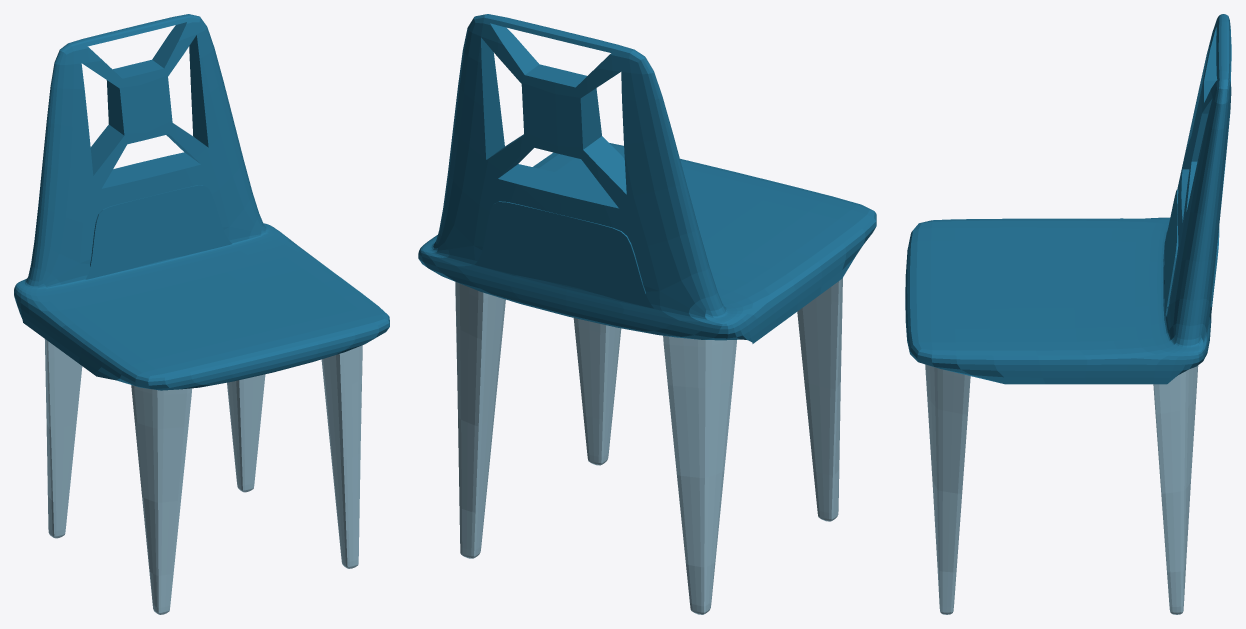
The model's file is work_chair.glb.
3 views of the same model, side by side, from view 1: azimuth 30°, elevation 25°; view 2: azimuth 150°, elevation 25°; view 3: azimuth 270°, elevation 25° (orthographic). The views are drawn at different scales.
Parts seen in each view (by area): view 1: Cube, Cube.001; view 2: Cube, Cube.001; view 3: Cube, Cube.001.
Boxes of the visible parts, x1,y1,x2,y2 form: Cube: (14,14,389,390); Cube.001: (44,339,362,614); Cube: (418,14,876,343); Cube.001: (455,278,842,614); Cube: (905,14,1231,384); Cube.001: (925,364,1198,614).
Bounding box in the file's own units: 0.8233 × 1.39 × 0.7979.
